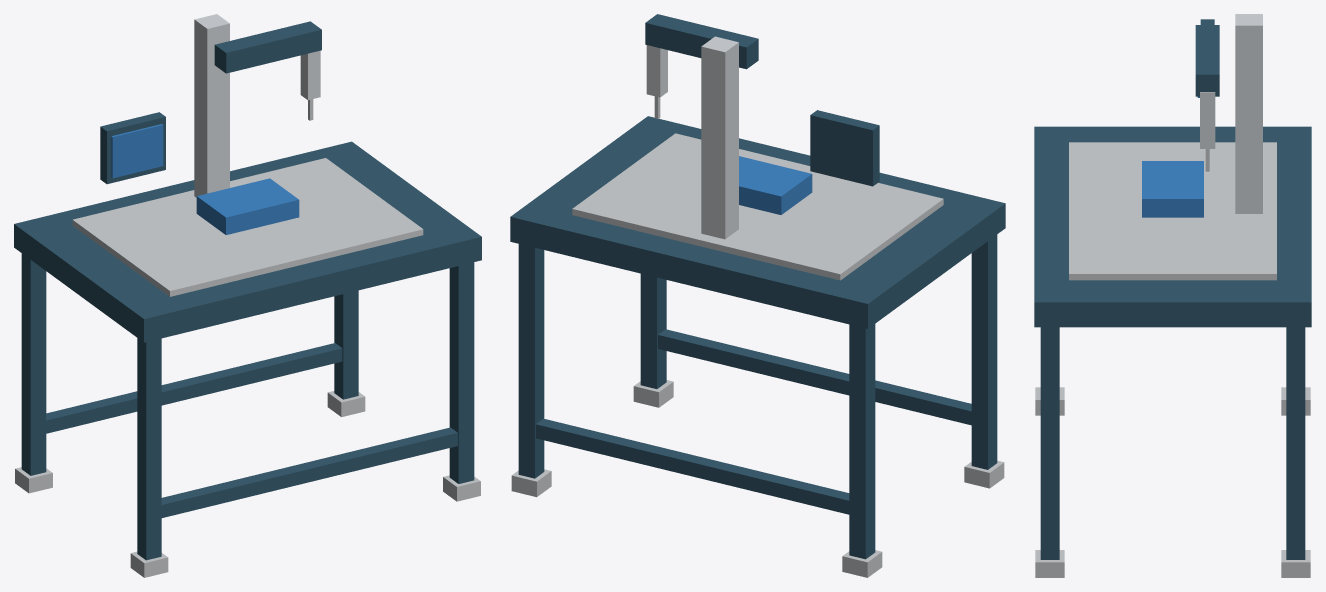
File: measure.glb
3 views of the same model, side by side, from view 1: azimuth 30°, elevation 25°; view 2: azimuth 150°, elevation 25°; view 3: azimuth 270°, elevation 25° (orthographic). The views are drawn at different scales.
Visible parts, largest first — view 1: reference table, reference plate, steel support (×4), base cross rail (×2), instrument column, sample fixture, instrument arm, levelling foot (×4), display, display housing, probe housing; view 2: reference table, reference plate, steel support (×4), base cross rail (×2), instrument column, display housing, levelling foot (×4), sample fixture, instrument arm, probe housing; view 3: reference table, reference plate, steel support (×2), instrument column, sample fixture, instrument arm, levelling foot (×2), probe housing.
Boxes of the visible parts, box(x1,y1,x2,y2) form: reference table: box(14, 141, 481, 342); reference plate: box(72, 158, 423, 296); steel support (×4): box(21, 253, 474, 560); base cross rail (×2): box(46, 343, 457, 517); instrument column: box(194, 14, 229, 197); sample fixture: box(196, 178, 299, 234); instrument arm: box(214, 21, 321, 73); levelling foot (×4): box(15, 391, 480, 577); display: box(111, 124, 163, 178); display housing: box(100, 112, 165, 184); probe housing: box(300, 50, 320, 100); reference table: box(510, 116, 1005, 328); reference plate: box(572, 133, 943, 280); steel support (×4): box(518, 234, 997, 559); base cross rail (×2): box(536, 329, 971, 514); instrument column: box(701, 36, 738, 239); display housing: box(810, 110, 879, 186); levelling foot (×4): box(511, 380, 1004, 577); sample fixture: box(739, 156, 812, 214); instrument arm: box(645, 14, 758, 69); probe housing: box(646, 45, 667, 97); reference table: box(1034, 126, 1311, 327); reference plate: box(1069, 142, 1276, 280); steel support (×2): box(1040, 327, 1305, 559); instrument column: box(1235, 14, 1262, 213); sample fixture: box(1142, 161, 1203, 217); instrument arm: box(1195, 25, 1219, 96); levelling foot (×2): box(1035, 550, 1310, 577); probe housing: box(1200, 92, 1215, 148).
Bounding box in the file's own units: 1.2 × 1.5 × 0.8.
